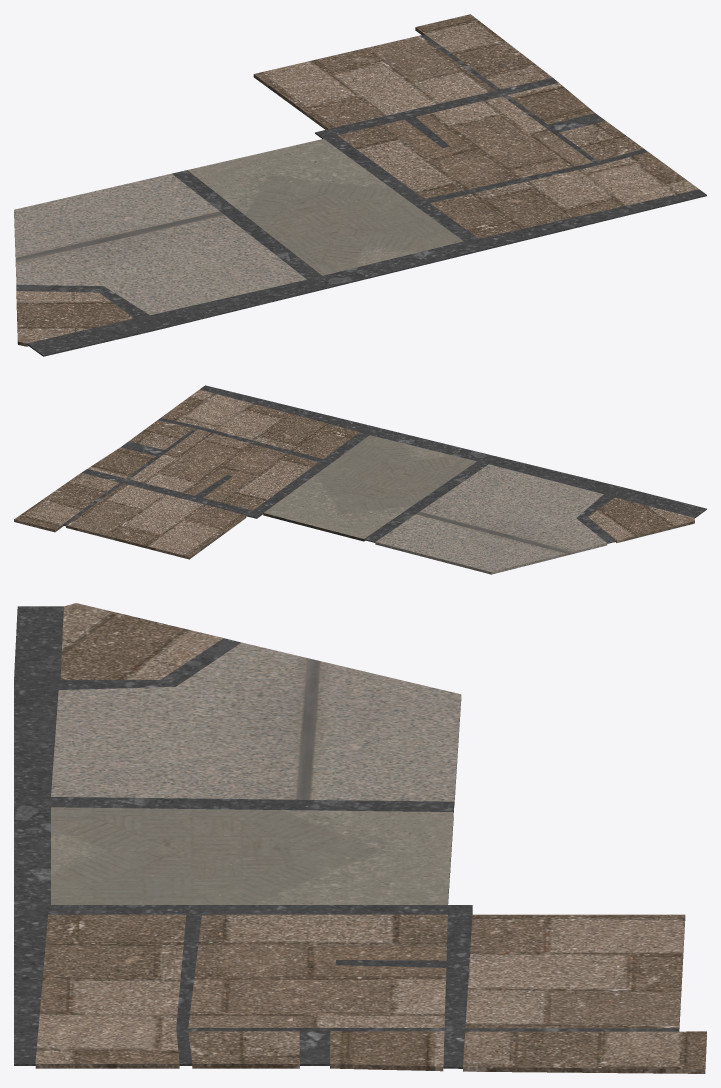
Rendered from 101SidewalkAndRoadFixed.fbx.
3 views of the same model, one above another, from view 1: azimuth 30°, elevation 25°; view 2: azimuth 150°, elevation 25°; view 3: azimuth 270°, elevation 25° (orthographic). The views are drawn at different scales.
Visible parts, largest first — view 1: Sidework.011, road2, Sidework.008, Sidework.009, Sidework.007, Sidework.006, Sidework.022, Sidework.012, Sidework.021, Sidework.020; view 2: Sidework.011, Sidework.008, road2, Sidework.009, Sidework.007, Sidework.006, Sidework.022, Sidework.012, Sidework.021, Sidework.020; view 3: Sidework.011, Sidework.008, road2, Sidework.009, Sidework.007, Sidework.006, Sidework.022, Sidework.012, Sidework.021, Sidework.020.
Boxes of the visible parts, x1,y1,x2,y2 form: Sidework.011: (14, 173, 306, 315); road2: (16, 34, 706, 356); Sidework.008: (187, 139, 463, 275); Sidework.009: (338, 96, 592, 198); Sidework.007: (253, 35, 495, 129); Sidework.006: (430, 152, 698, 238); Sidework.022: (415, 14, 552, 89); Sidework.012: (16, 291, 134, 346); Sidework.021: (508, 83, 594, 124); Sidework.020: (559, 121, 643, 161); Sidework.011: (375, 464, 607, 574); Sidework.008: (263, 435, 476, 541); road2: (62, 385, 706, 543); Sidework.009: (129, 429, 318, 510); Sidework.007: (66, 483, 246, 559); Sidework.006: (161, 389, 359, 458); Sidework.022: (14, 472, 119, 532); Sidework.012: (588, 497, 694, 542); Sidework.021: (87, 447, 155, 478); Sidework.020: (129, 420, 193, 449); Sidework.011: (51, 642, 461, 804); Sidework.008: (51, 807, 453, 904); road2: (14, 606, 679, 1068); Sidework.009: (188, 914, 447, 1027); Sidework.007: (465, 914, 685, 1028); Sidework.006: (35, 914, 186, 1068); Sidework.022: (463, 1031, 706, 1073); Sidework.012: (60, 603, 223, 679); Sidework.021: (330, 1031, 444, 1071); Sidework.020: (188, 1031, 299, 1068).
Bounding box in the file's own units: 1236 × 5.75 × 776.
